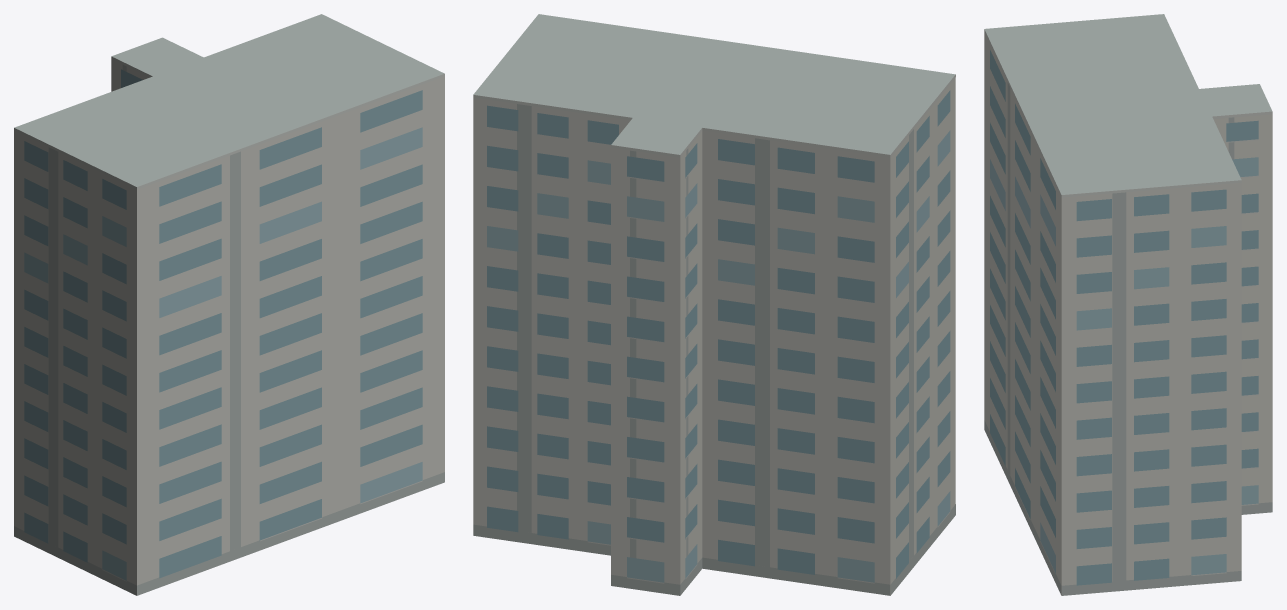
The model's file is residential-d5585f5e-2021-4d40-9223-557b156441d3.glb.
3 renders of one model, left to right at view 1: azimuth 30°, elevation 25°; view 2: azimuth 150°, elevation 25°; view 3: azimuth 270°, elevation 25°, orthographic. The views are drawn at different scales.
Visible parts, largest first — view 1: residential-d5585f5e-2021-4d40-9223-557b156441d3.tmp; view 2: residential-d5585f5e-2021-4d40-9223-557b156441d3.tmp; view 3: residential-d5585f5e-2021-4d40-9223-557b156441d3.tmp.
Boxes of the visible parts, box(x1,y1,x2,y2) form: residential-d5585f5e-2021-4d40-9223-557b156441d3.tmp: box(14, 14, 444, 595); residential-d5585f5e-2021-4d40-9223-557b156441d3.tmp: box(473, 14, 955, 595); residential-d5585f5e-2021-4d40-9223-557b156441d3.tmp: box(984, 14, 1272, 595).
Bounding box in the file's own units: 35.86 × 37 × 24.12.
